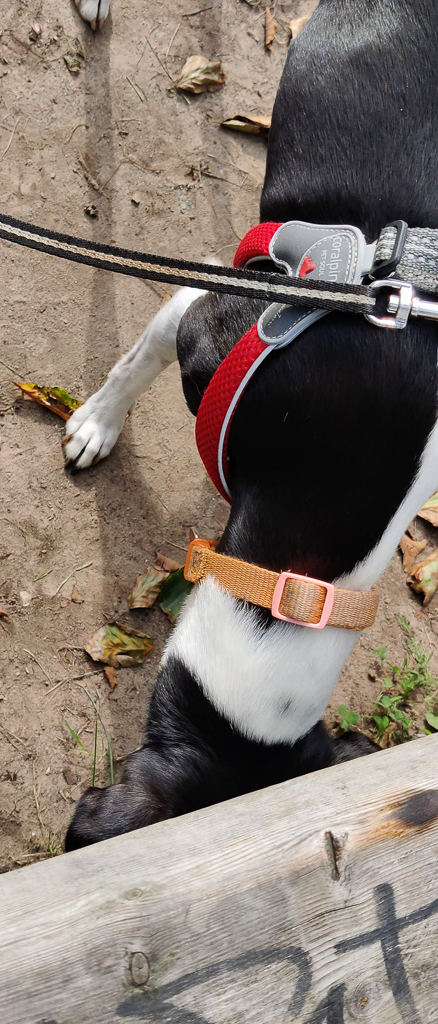Dog: (25, 0, 438, 873)
